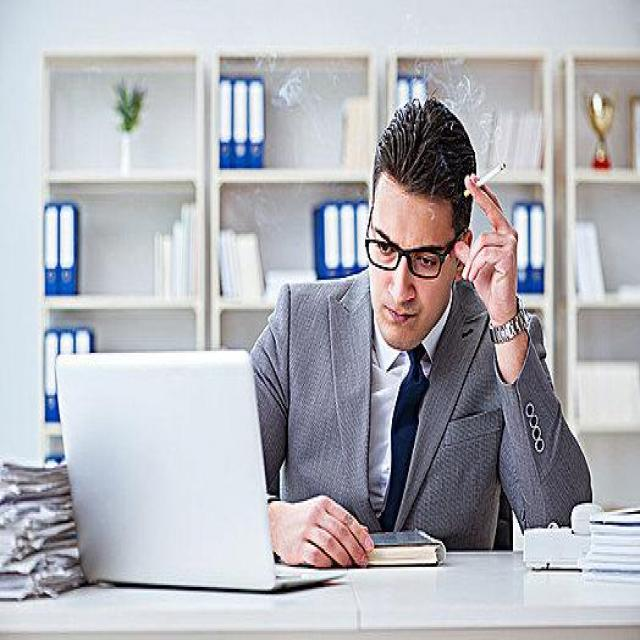Сигарета: (465, 161, 507, 201)
Тело: (250, 92, 593, 570)
